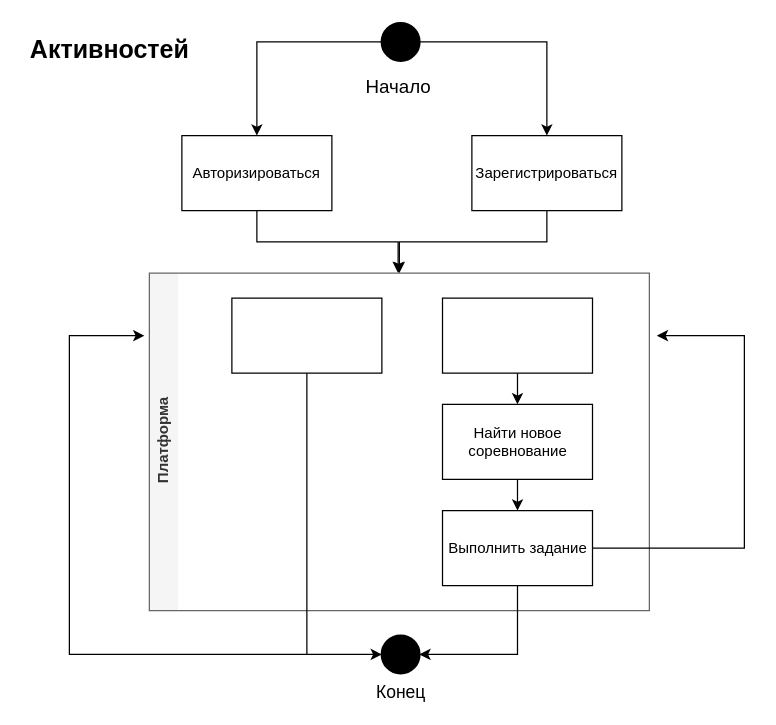
Some shapes in this 776 by 725 pixel diagram are drawn without their labels. Each missing label, with the centre of its shape:
Выбрать категорию: (516,335)
Закончить прошлое соревнование: (306,335)
